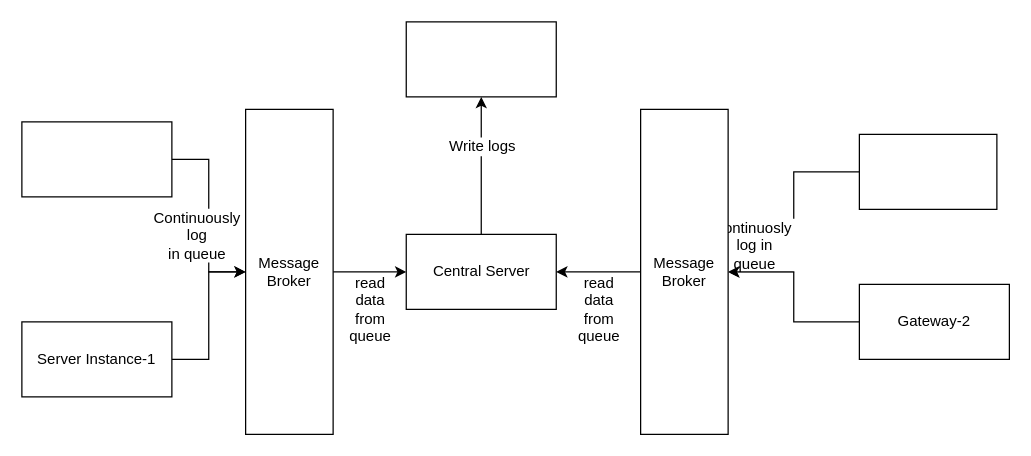
Image size: 1031x456. Some labels were removed from this diagram. The shapes that lost their labels are listed below. From the top down, each one's centre as x and y in pixels, then its label:
the point at 480,59: Logging
the point at 96,159: Server Instance-2
the point at 927,171: Gateway-1
